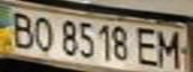1: (93, 21, 115, 61)
5: (75, 19, 96, 60)
8: (54, 17, 81, 56), (109, 22, 133, 63)
B: (3, 9, 39, 50)
E: (133, 25, 163, 68)
M: (154, 27, 187, 70)
O: (30, 14, 57, 52)
